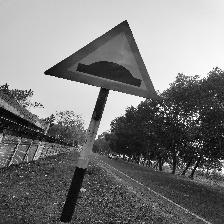Speed-breaker: (44, 19, 162, 101)
